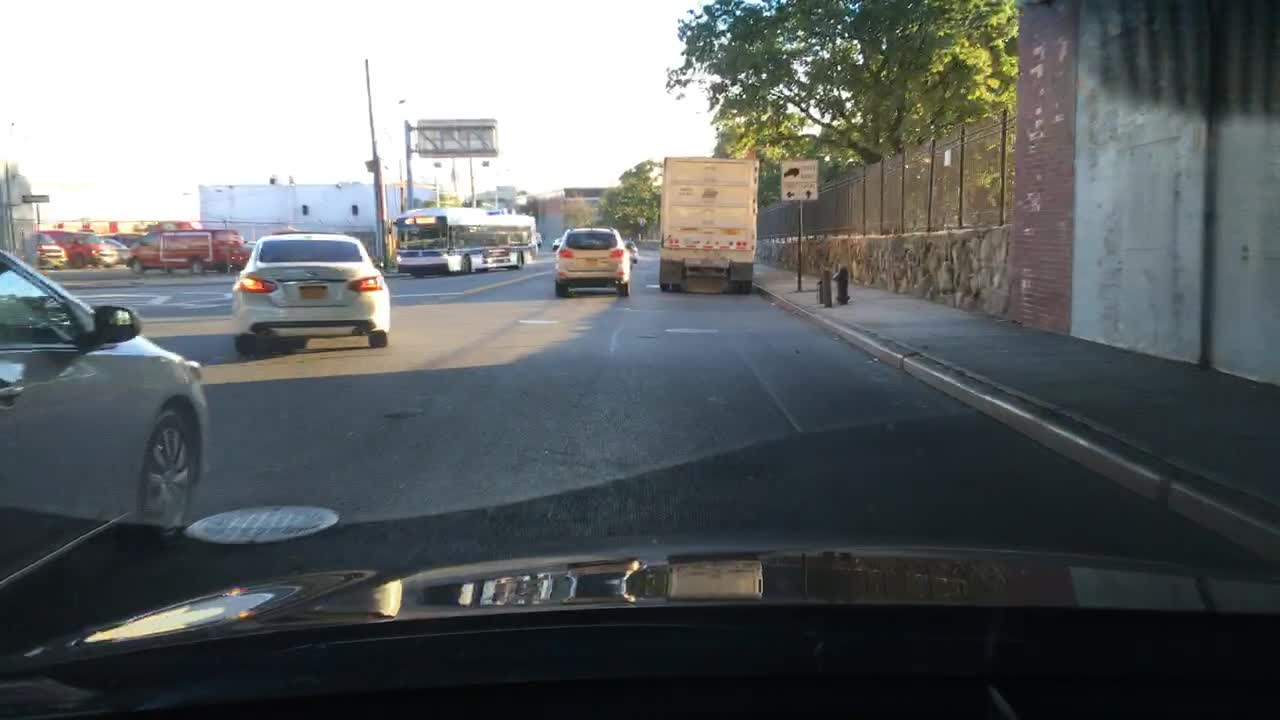bus: (392, 204, 539, 281)
car: (0, 243, 215, 535), (226, 230, 393, 358), (125, 218, 252, 275), (552, 224, 633, 300), (37, 229, 102, 269), (36, 232, 69, 269), (100, 235, 132, 268), (109, 232, 144, 250), (625, 238, 640, 266), (549, 233, 563, 250), (533, 230, 544, 247), (247, 238, 258, 250)
traffic sign: (416, 117, 498, 159), (780, 160, 819, 200), (21, 194, 49, 204)
truck: (656, 154, 761, 297)
